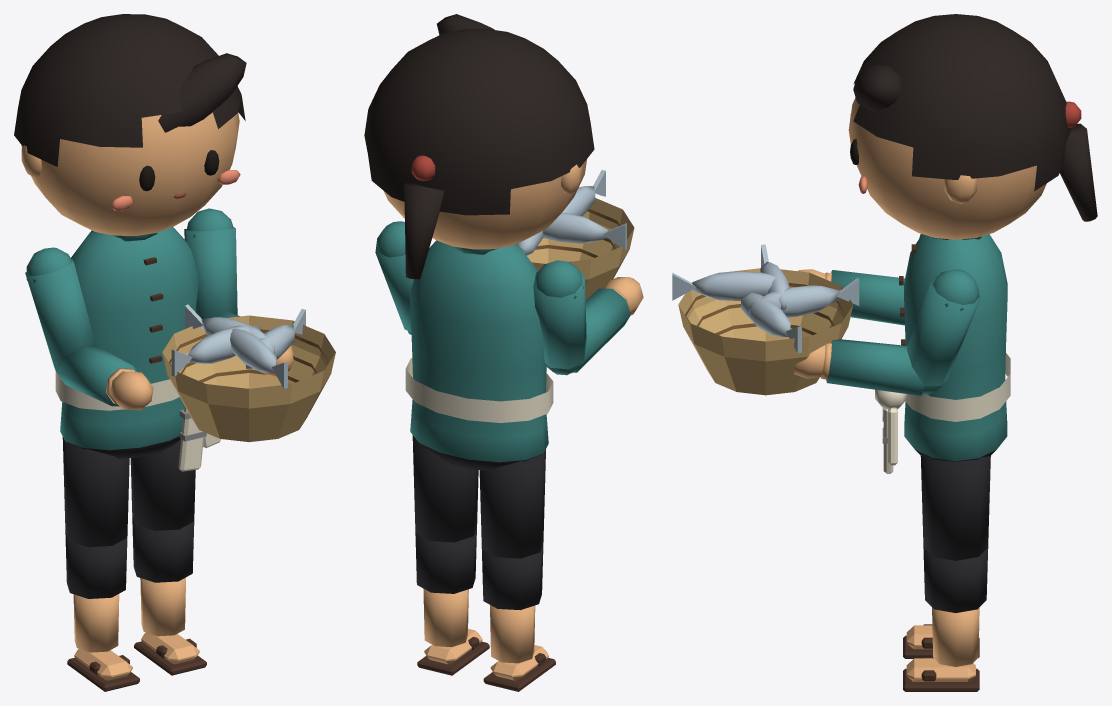
Rendered from east_fish_woman.glb.
3 renders of one model, left to right at view 1: azimuth 30°, elevation 25°; view 2: azimuth 150°, elevation 25°; view 3: azimuth 270°, elevation 25°, orthographic.
Parts seen in each view (by area): view 1: head, body, prop_fish_basket, shin_R, shin_L, leg_R, arm_R, leg_L, arm_L, forearm_R; view 2: head, body, shin_L, shin_R, prop_fish_basket, leg_R, leg_L, arm_R, forearm_R, arm_L; view 3: head, body, prop_fish_basket, shin_L, leg_L, arm_L, forearm_L, forearm_R, shin_R.
Part boxes in pixels (bbox=[...]): head: bbox=[14, 14, 246, 235]; body: bbox=[55, 227, 221, 471]; prop_fish_basket: bbox=[162, 304, 335, 442]; shin_R: bbox=[65, 531, 139, 691]; shin_L: bbox=[132, 515, 206, 675]; leg_R: bbox=[62, 437, 129, 547]; arm_R: bbox=[25, 247, 95, 377]; leg_L: bbox=[130, 439, 195, 530]; arm_L: bbox=[184, 208, 237, 319]; forearm_R: bbox=[56, 345, 153, 410]; head: bbox=[364, 14, 594, 279]; body: bbox=[405, 240, 553, 470]; shin_L: bbox=[415, 527, 489, 675]; shin_R: bbox=[482, 543, 555, 691]; prop_fish_basket: bbox=[517, 170, 634, 299]; leg_R: bbox=[479, 449, 545, 558]; leg_L: bbox=[412, 435, 478, 542]; arm_R: bbox=[533, 260, 586, 375]; forearm_R: bbox=[545, 277, 643, 373]; arm_L: bbox=[375, 221, 413, 334]; head: bbox=[848, 14, 1097, 239]; body: bbox=[875, 234, 1010, 473]; prop_fish_basket: bbox=[672, 244, 859, 395]; shin_L: bbox=[903, 547, 988, 691]; leg_L: bbox=[920, 456, 990, 560]; arm_L: bbox=[906, 269, 981, 394]; forearm_L: bbox=[794, 339, 941, 395]; forearm_R: bbox=[797, 269, 904, 325]; shin_R: bbox=[903, 624, 979, 658].
Bounding box in the file's own units: 0.4938 × 1.46 × 0.875.
